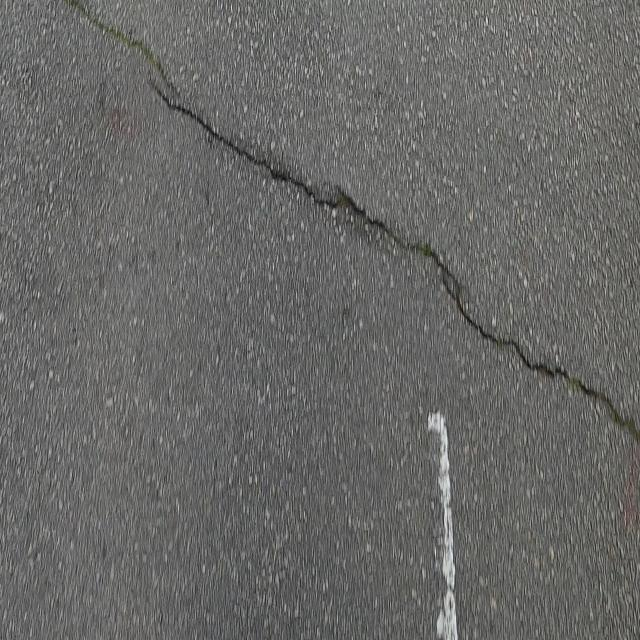Retak-Melintang: (143, 62, 638, 454), (68, 0, 177, 100)
